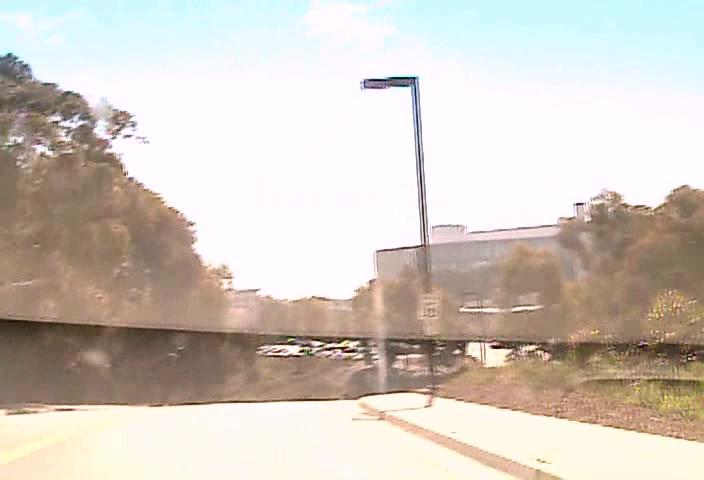speedLimitUrdbl: (415, 291, 440, 322)
